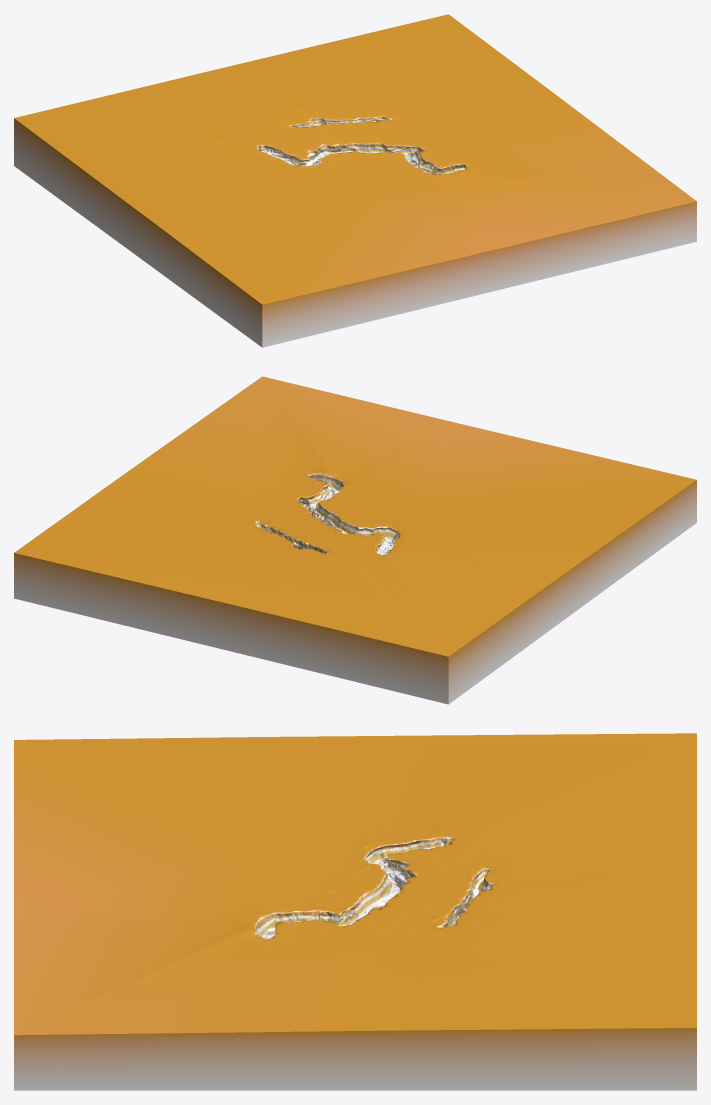
The model's file is OXARA.glb.
3 renders of one model, top to bottom at view 1: azimuth 30°, elevation 25°; view 2: azimuth 150°, elevation 25°; view 3: azimuth 270°, elevation 25°, orthographic. The views are drawn at different scales.
Parts seen in each view (by area): view 1: OXARA; view 2: OXARA; view 3: OXARA.
Part boxes in pixels (x1=…): OXARA: x1=14, y1=14, x2=696, y2=347; OXARA: x1=14, y1=376, x2=696, y2=704; OXARA: x1=14, y1=733, x2=696, y2=1090.
Size of the model in its own units: 1976 by 208 by 1956.
